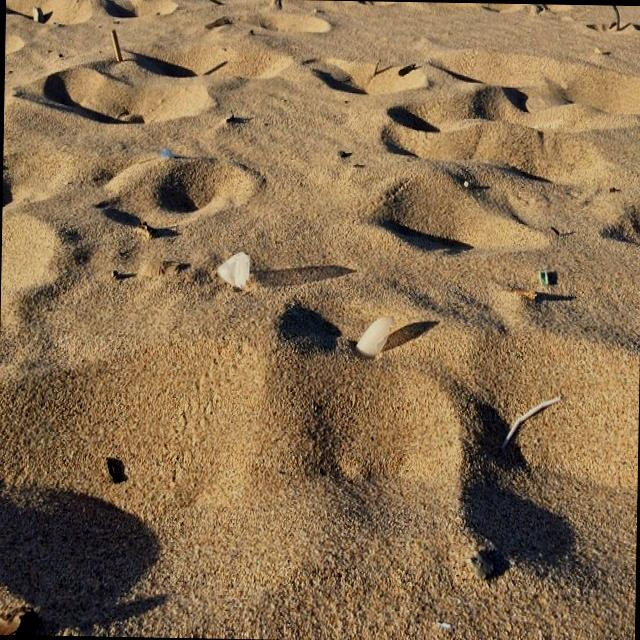Trash: (352, 312, 392, 354), (215, 250, 252, 286), (160, 144, 174, 162), (538, 265, 550, 286)
